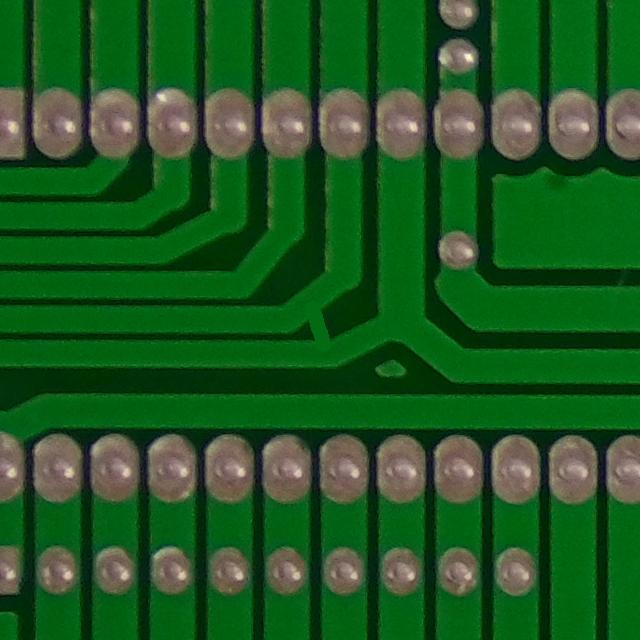short: (277, 278, 364, 363)
